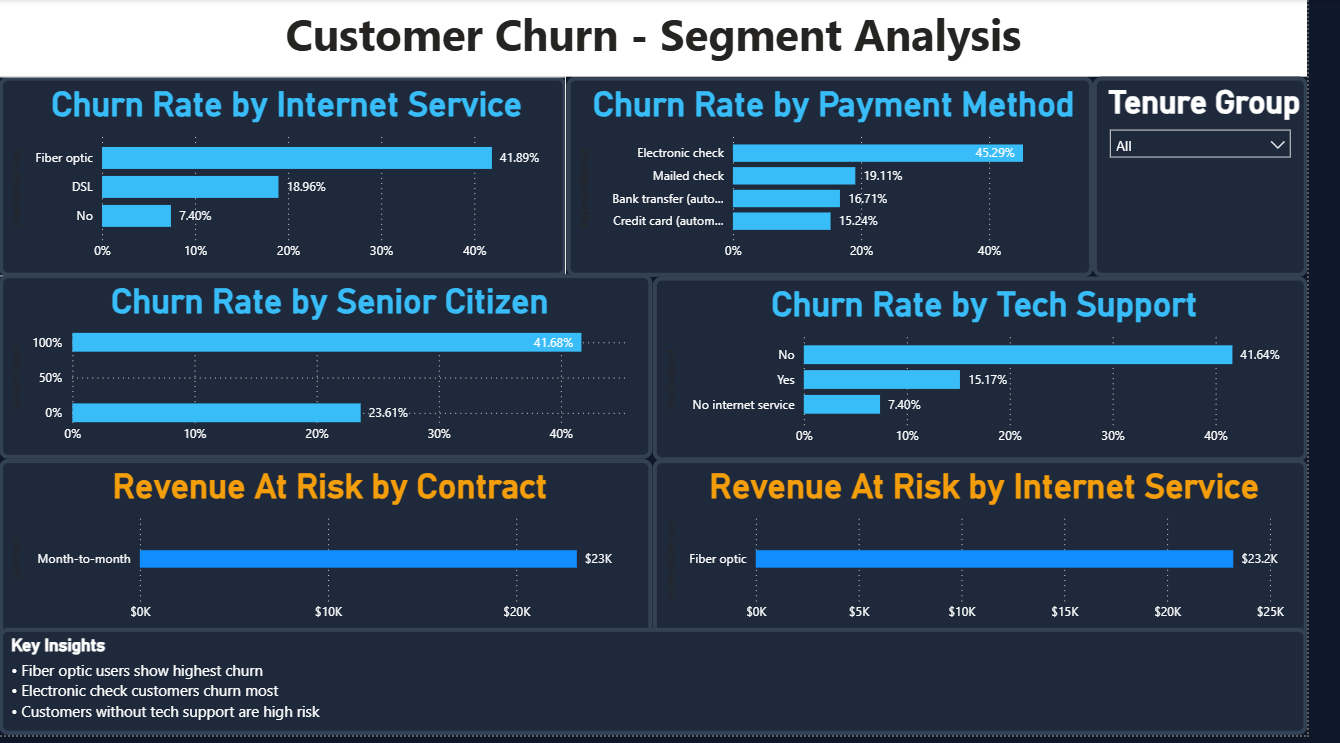

What the dashboard file says about the page in this screenshot:
{"tool":"powerbi","page":{"name":"Segment Analysis","canvas":[1280,720],"ordinal":1},"visuals":[{"type":"clusteredBarChart","title":"Churn Rate by Internet Service","fields":{"Category":["churn_predictions.InternetService"],"Y":["churn_predictions.ChurnRate"]},"box":[0,75.8,555.2,195.7],"z":0},{"type":"clusteredBarChart","title":"Churn Rate by Payment Method","fields":{"Category":["churn_predictions.PaymentMethod"],"Y":["churn_predictions.ChurnRate"]},"box":[555.2,75.8,514.8,195.7],"z":1000},{"type":"clusteredBarChart","title":"Churn Rate by Senior Citizen ","fields":{"Y":["churn_predictions.ChurnRate"],"Category":["churn_predictions.SeniorCitizen"]},"box":[0,269,639.5,181],"z":2000},{"type":"clusteredBarChart","title":"Churn Rate by Tech Support","fields":{"Category":["churn_predictions.TechSupport"],"Y":["churn_predictions.ChurnRate"]},"box":[639.5,271.5,640.8,181],"z":3000},{"type":"clusteredBarChart","title":"Revenue At Risk by Contract","fields":{"Category":["churn_predictions.Contract"],"Y":["churn_predictions.RevenueAtRisk"]},"box":[0,450,639.5,174.9],"z":4000},{"type":"clusteredBarChart","title":"Revenue At Risk by Internet Service","fields":{"Category":["churn_predictions.InternetService"],"Y":["churn_predictions.RevenueAtRisk"]},"box":[639.5,450,640.8,174.9],"z":5000},{"type":"textbox","box":[0,0,1280.3,75.8],"z":6000},{"type":"textbox","title":"Key Insights","box":[0,615.1,1280.3,105.2],"z":7000},{"type":"slicer","title":"Tenure Group","fields":{"Values":["churn_predictions.TenureGroup"]},"box":[1070,75.8,210.3,195.7],"z":8000}]}

Visuals, with their boxes in screenshot pixels (x1, y1, x2, y2), scaled from the page's 1280x720 canvas onto the 1340x743 screenshot:
"Churn Rate by Internet Service" clusteredBarChart: <region>0, 78, 581, 280</region>
"Churn Rate by Payment Method" clusteredBarChart: <region>581, 78, 1120, 280</region>
"Churn Rate by Senior Citizen " clusteredBarChart: <region>0, 278, 669, 464</region>
"Churn Rate by Tech Support" clusteredBarChart: <region>669, 280, 1339, 467</region>
"Revenue At Risk by Contract" clusteredBarChart: <region>0, 464, 669, 645</region>
"Revenue At Risk by Internet Service" clusteredBarChart: <region>669, 464, 1339, 645</region>
textbox: <region>0, 0, 1339, 78</region>
"Key Insights" textbox: <region>0, 635, 1339, 742</region>
"Tenure Group" slicer: <region>1120, 78, 1339, 280</region>
